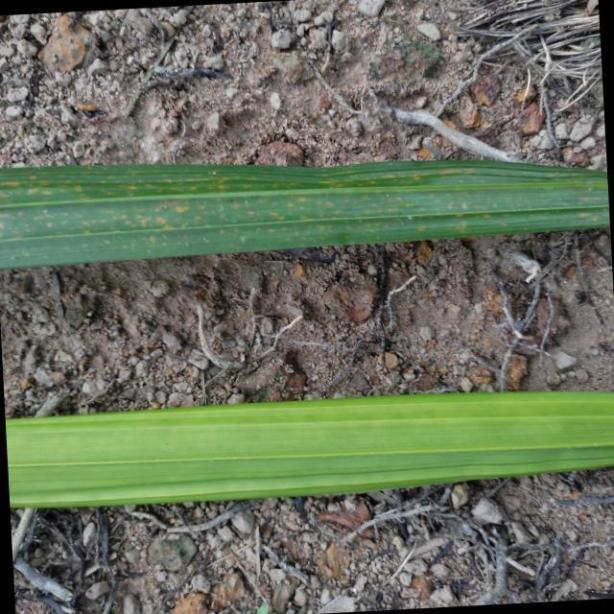nitrogen: (3, 390, 614, 514), (0, 157, 614, 272)
